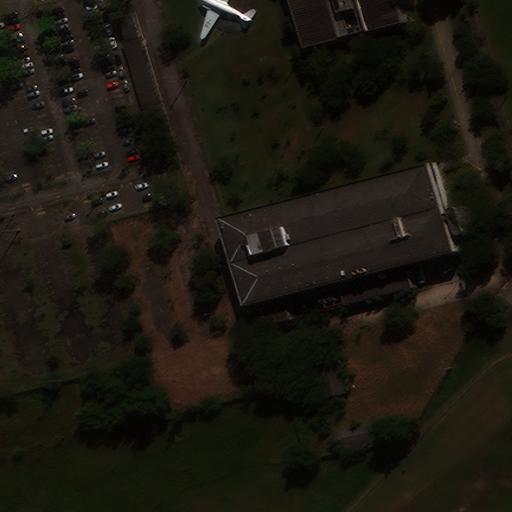Military Transport: (202, 0, 248, 34)
